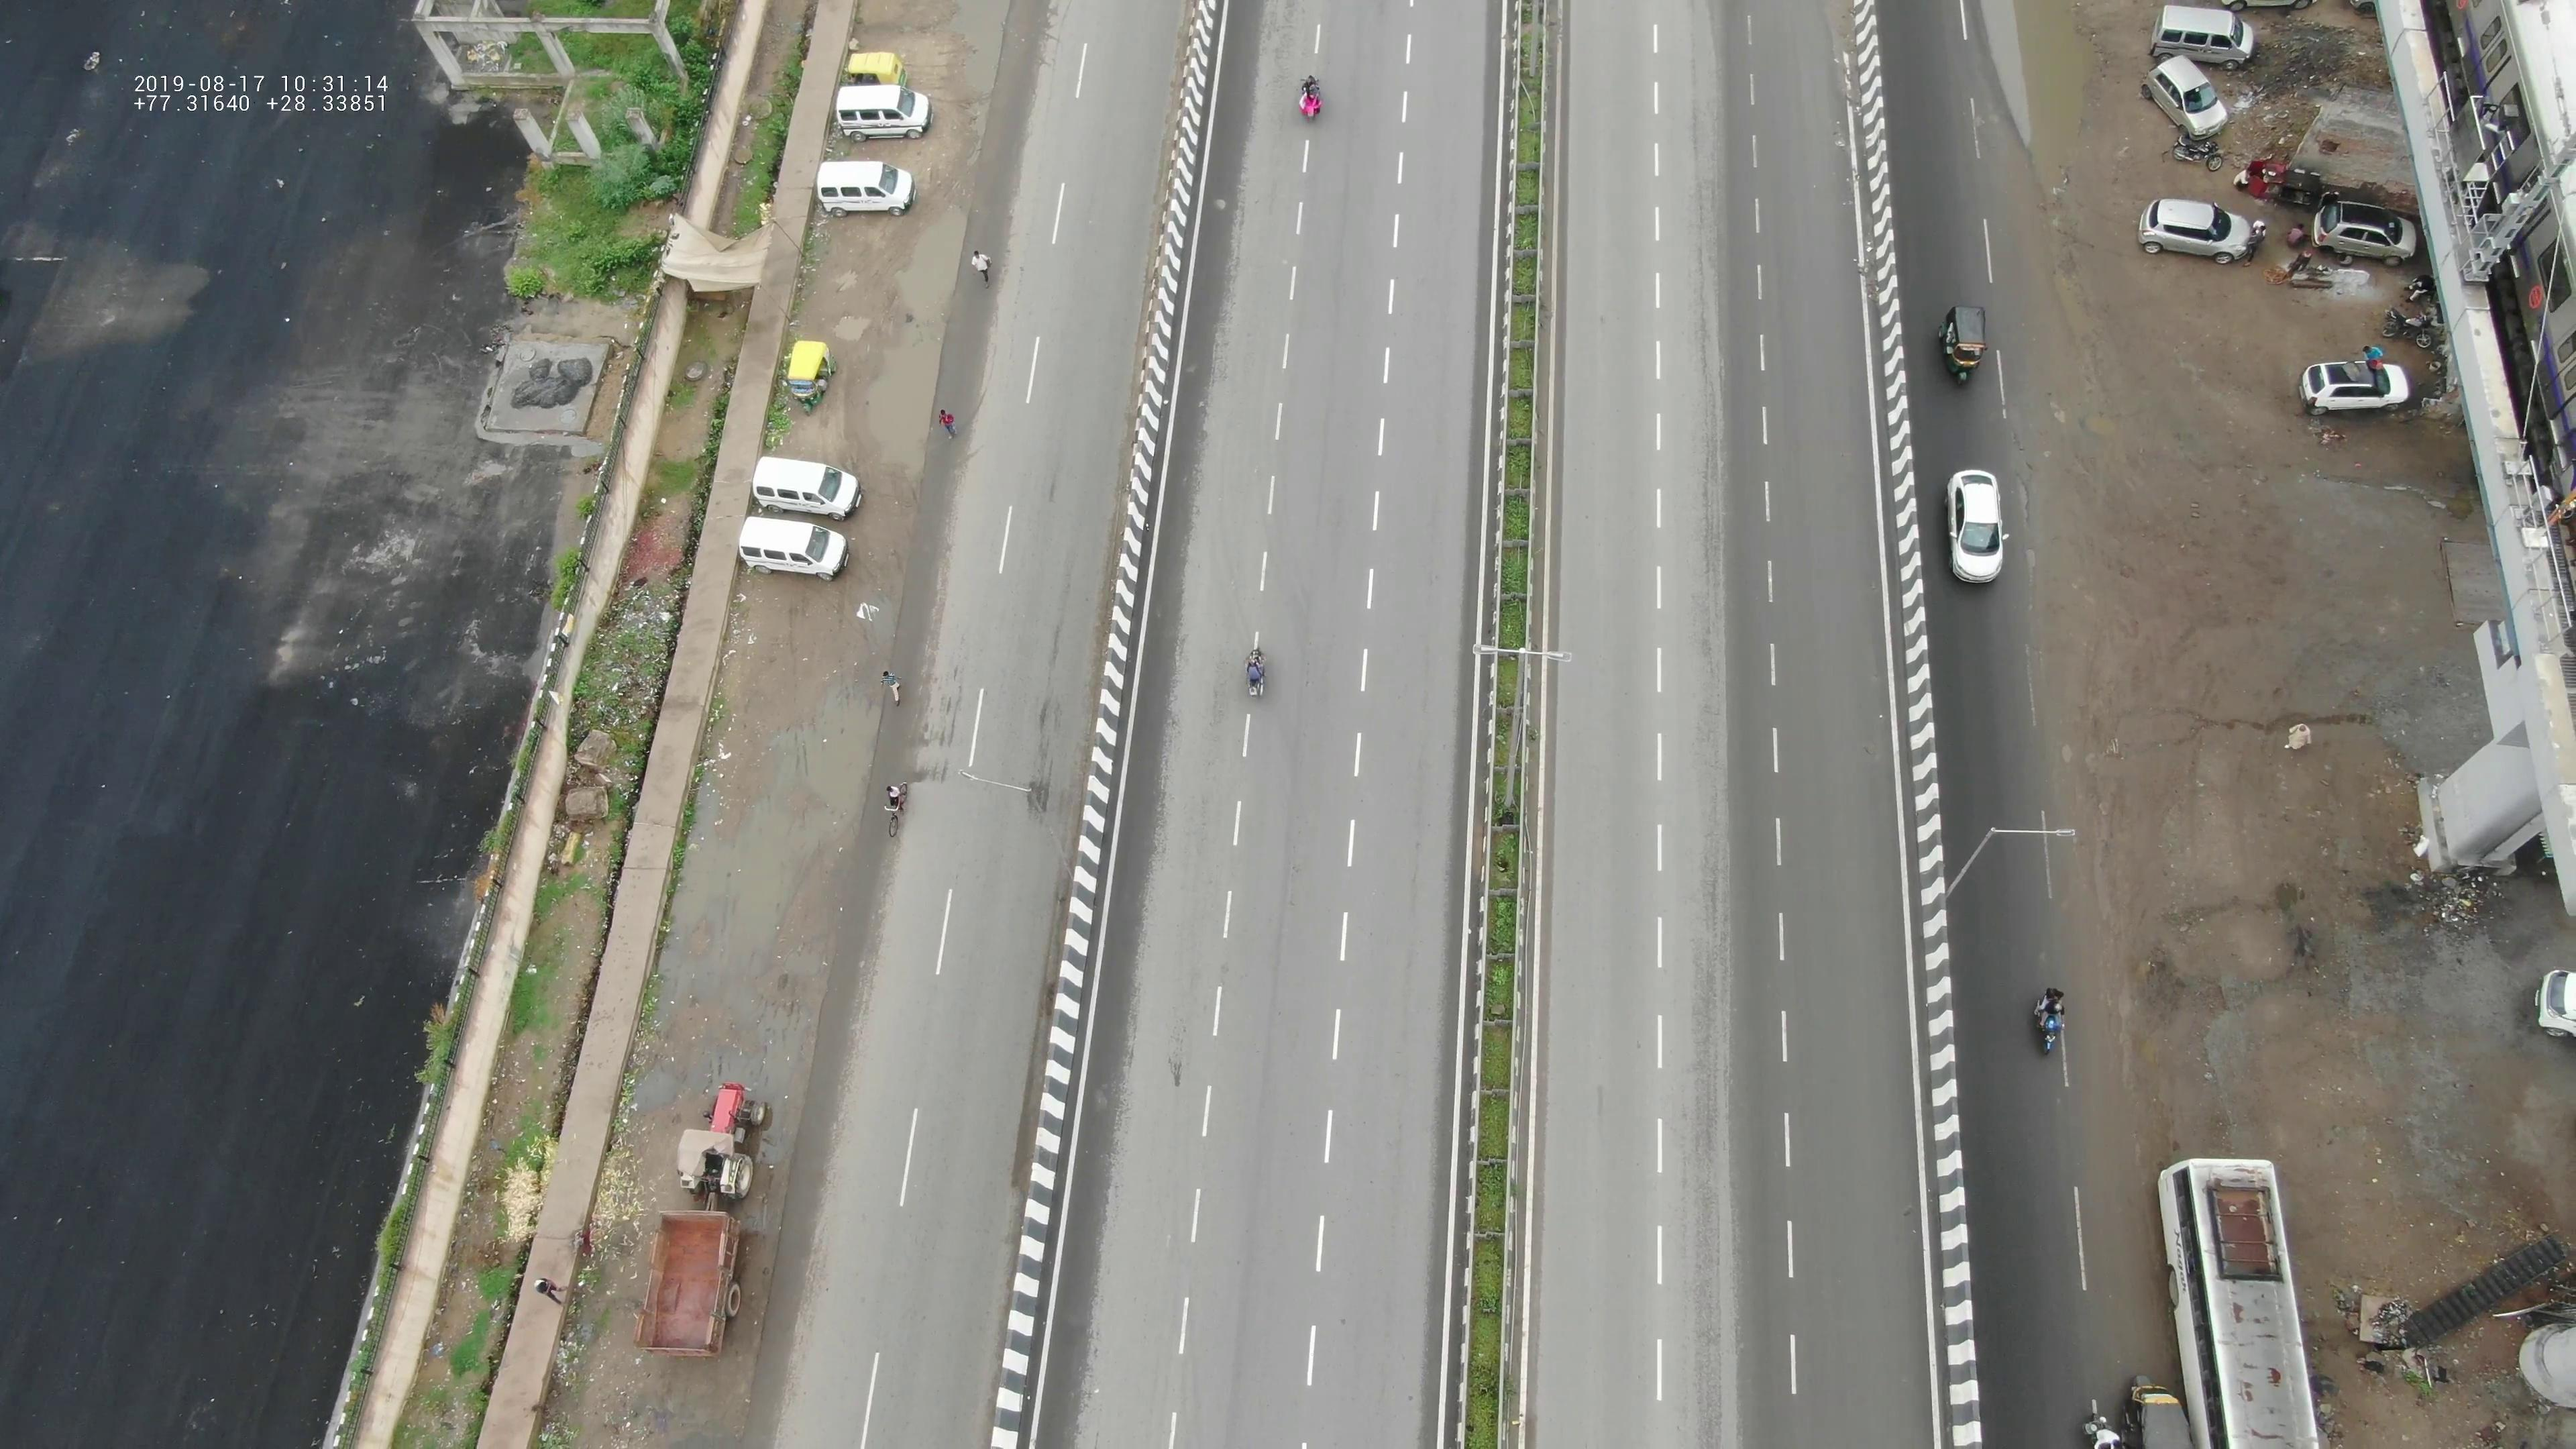Waterlogging: (644, 702, 863, 1065), (840, 203, 975, 444)
